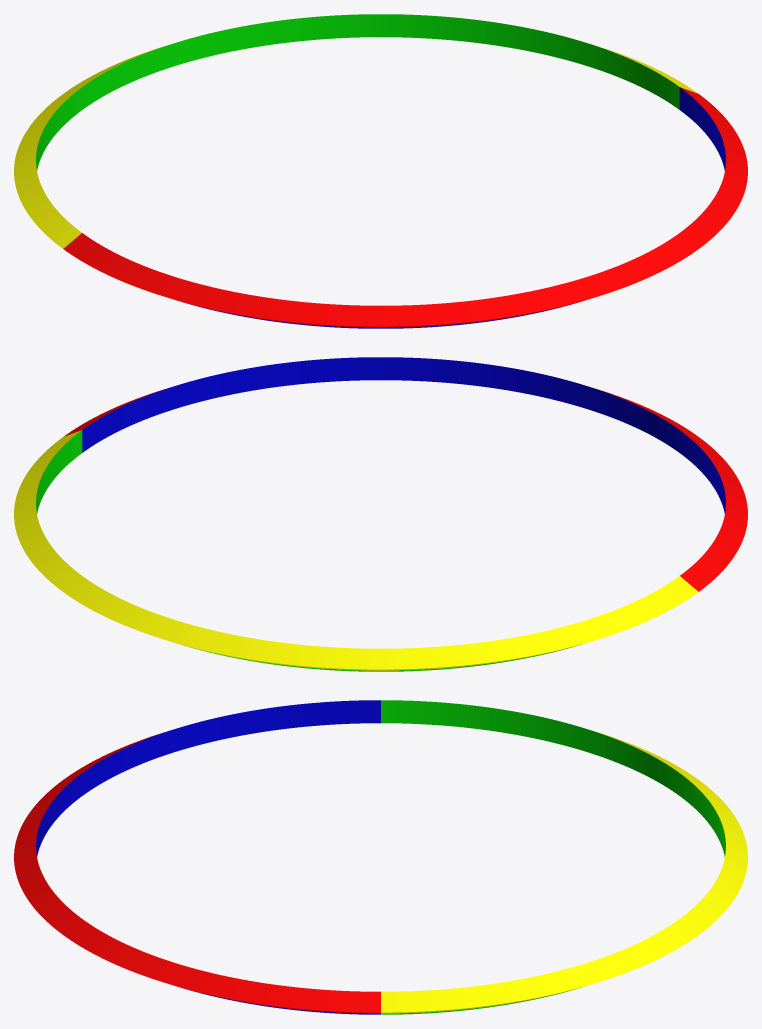
3 renders of one model, top to bottom at view 1: azimuth 30°, elevation 25°; view 2: azimuth 150°, elevation 25°; view 3: azimuth 270°, elevation 25°, orthographic.
Visible parts, largest first — view 1: Torus; view 2: Torus; view 3: Torus.
Part boxes in pixels (x1,y1,x2,y2): Torus: (14, 14, 747, 328); Torus: (14, 357, 747, 671); Torus: (14, 700, 747, 1014).
Size of the model in its own units: 2 by 0.0693 by 2.
Materials: 1 (1 with a texture image).
